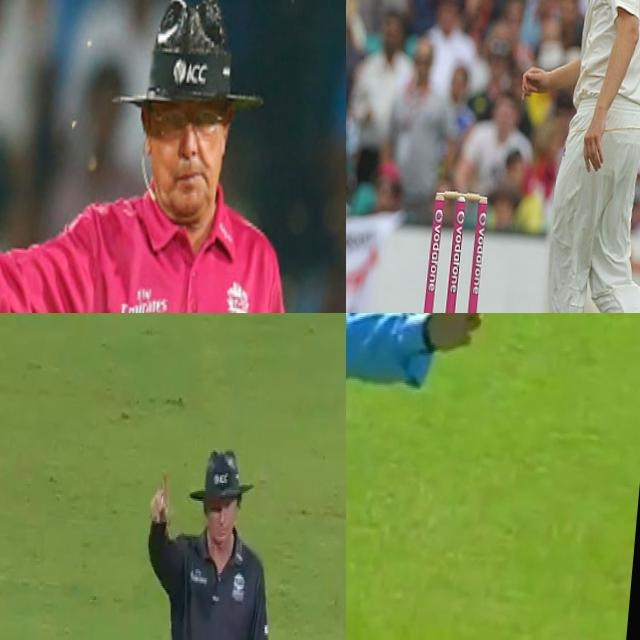No_Ball: (0, 0, 346, 313), (346, 313, 503, 640)
Out: (119, 432, 294, 640)
